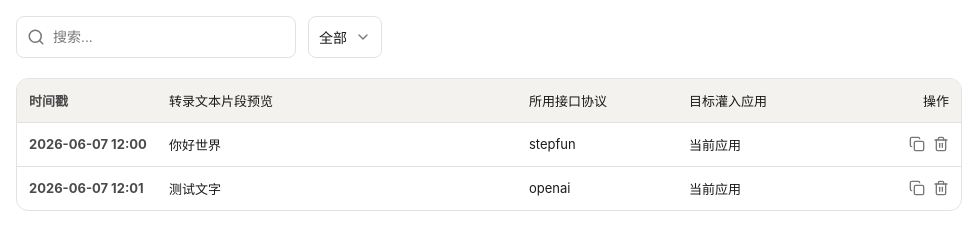
Test: History › filters rows by search query
In the field with class "search-input": coordinates (169, 36) [53, 28, 285, 44], type "你好"
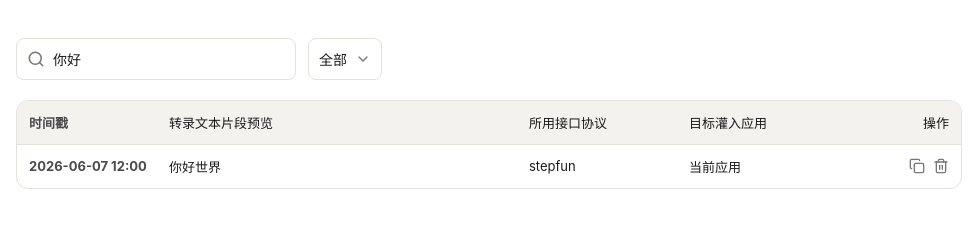
Check: the text "你好世界" is shown, box [169, 158, 221, 174]
Check: the text "测试文字" is gone
